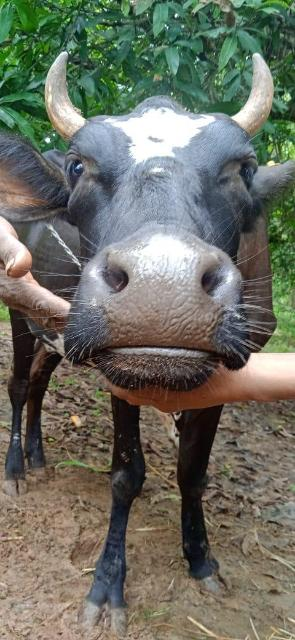Muzzle: (102, 247, 217, 345)
